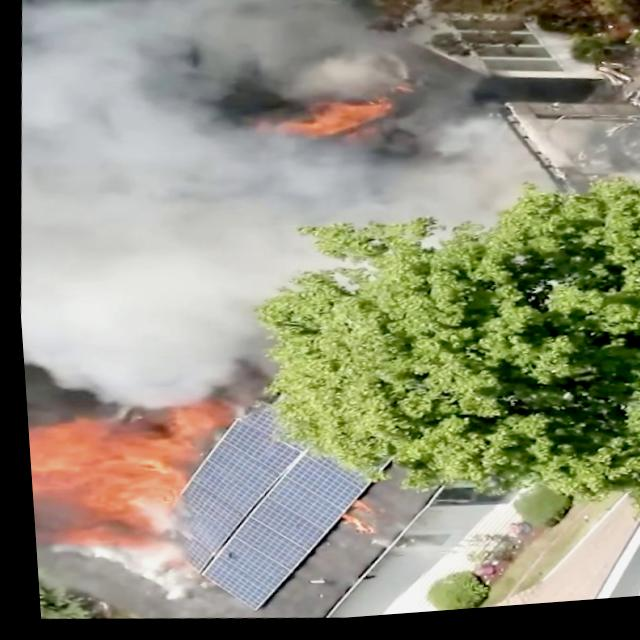fire: (21, 391, 183, 546)
smoke: (3, 33, 297, 372)
